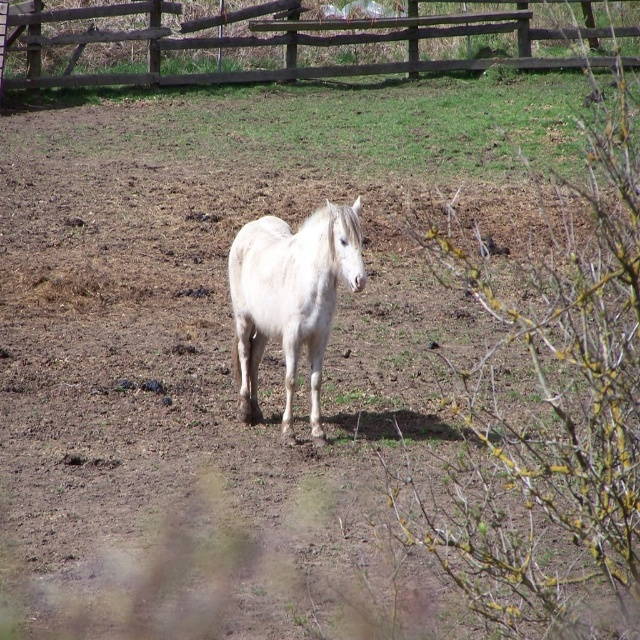Horse: (228, 194, 368, 455)
